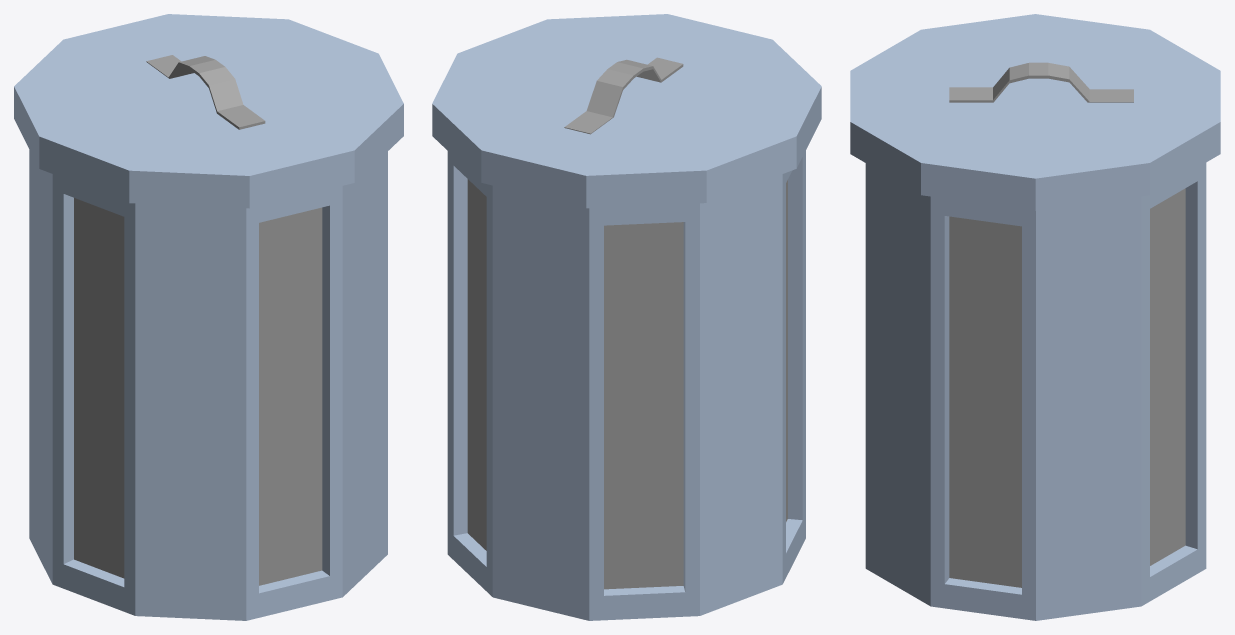
The model's file is bin.fbx.
3 views of the same model, side by side, from view 1: azimuth 30°, elevation 25°; view 2: azimuth 150°, elevation 25°; view 3: azimuth 270°, elevation 25° (orthographic).
Visible parts, largest first — view 1: pCylinder1, pCube2; view 2: pCylinder1, pCube2; view 3: pCylinder1, pCube2.
Part boxes in pixels (bbox=[...]): pCylinder1: bbox=[29, 150, 387, 620]; pCube2: bbox=[14, 14, 403, 208]; pCylinder1: bbox=[447, 151, 805, 620]; pCube2: bbox=[432, 14, 821, 208]; pCylinder1: bbox=[865, 163, 1206, 620]; pCube2: bbox=[850, 14, 1220, 210].
Bounding box in the file's own units: 4.74 × 6.4 × 4.51.
